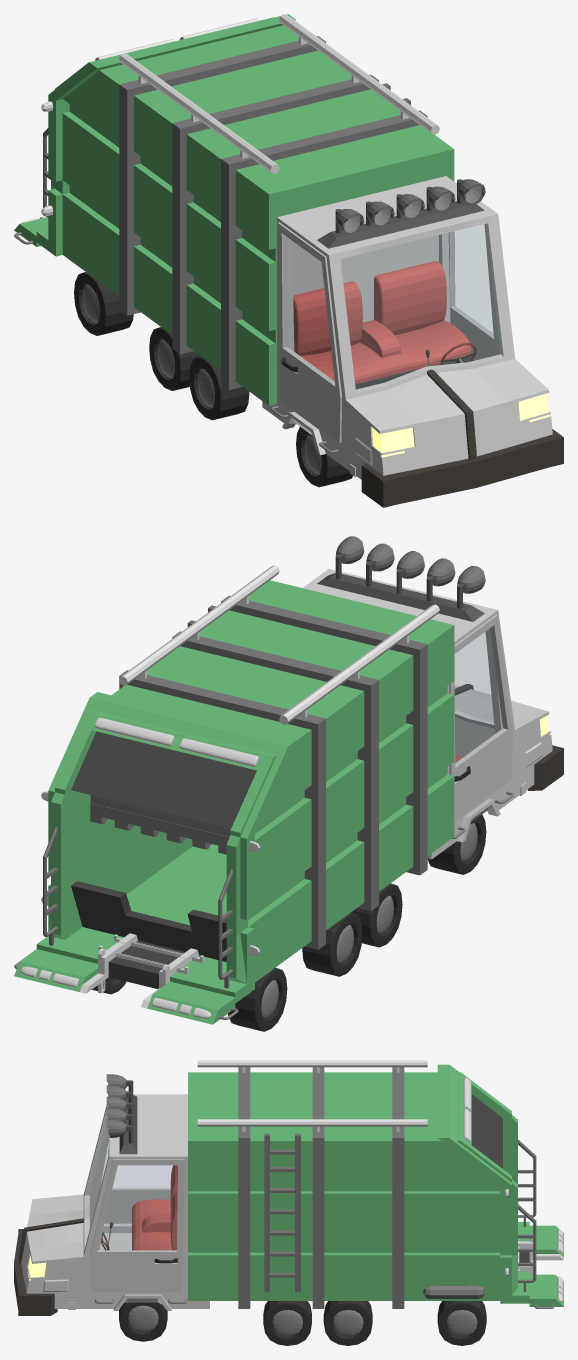
Rendered from garbage truck.fbx.
3 renders of one model, top to bottom at view 1: azimuth 30°, elevation 25°; view 2: azimuth 150°, elevation 25°; view 3: azimuth 270°, elevation 25°, orthographic. The views are drawn at different scales.
Parts seen in each view (by area): view 1: compactor, cab, cab_seats, cab_door_r, beam_lights, cab_door_l, compactor_top_rails, wheel_rr3, wheel_rr1, wheel_rr2, wheel_fr1, light_brake; view 2: compactor, cab, cab_door_r, beam_lights, compactor_top_rails, light_brake, wheel_rr2, compactor_door, wheel_rr3, wheel_rr1, wheel_fr1, compactor_railing (+2 smaller); view 3: compactor, cab, cab_door_l, compactor_top_rails, compactor_ladders, cab_door_r, cab_seats, beam_lights, wheel_rl2, wheel_rl3, wheel_rl1, wheel_fl1 (+3 smaller).
Boxes of the visible parts, bbox=[...] form: compactor: bbox=[14, 14, 454, 405]; cab: bbox=[262, 176, 563, 507]; cab_seats: bbox=[293, 261, 473, 389]; cab_door_r: bbox=[277, 222, 341, 442]; beam_lights: bbox=[317, 179, 485, 248]; cab_door_l: bbox=[448, 225, 495, 360]; compactor_top_rails: bbox=[119, 14, 439, 173]; wheel_rr3: bbox=[74, 272, 133, 335]; wheel_rr1: bbox=[189, 356, 249, 420]; wheel_rr2: bbox=[149, 327, 200, 390]; wheel_fr1: bbox=[296, 427, 352, 487]; light_brake: bbox=[22, 18, 258, 222]; compactor: bbox=[14, 580, 454, 1024]; cab: bbox=[303, 569, 563, 859]; cab_door_r: bbox=[449, 615, 512, 821]; beam_lights: bbox=[317, 536, 485, 621]; compactor_top_rails: bbox=[119, 565, 439, 724]; light_brake: bbox=[20, 717, 259, 1018]; wheel_rr2: bbox=[302, 912, 362, 976]; compactor_door: bbox=[90, 803, 229, 854]; wheel_rr3: bbox=[228, 967, 287, 1031]; wheel_rr1: bbox=[351, 883, 402, 947]; wheel_fr1: bbox=[427, 814, 486, 874]; compactor_railing: bbox=[43, 826, 233, 988]; compactor: bbox=[188, 1064, 563, 1308]; cab: bbox=[14, 1094, 209, 1315]; cab_door_l: bbox=[89, 1159, 184, 1291]; compactor_top_rails: bbox=[197, 1060, 427, 1132]; compactor_ladders: bbox=[264, 1133, 300, 1292]; cab_door_r: bbox=[103, 1142, 171, 1223]; cab_seats: bbox=[132, 1165, 177, 1250]; beam_lights: bbox=[106, 1074, 137, 1154]; wheel_rl2: bbox=[323, 1301, 372, 1345]; wheel_rl3: bbox=[437, 1301, 486, 1345]; wheel_rl1: bbox=[263, 1301, 311, 1345]; wheel_fl1: bbox=[119, 1302, 167, 1341].
Bounding box in the file's own units: 326 × 418 × 933.
